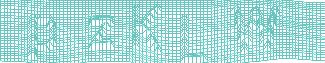K: (130, 3, 166, 54)
L: (176, 14, 210, 63)
P: (25, 11, 61, 63)
W: (231, 5, 280, 54)
z: (85, 13, 118, 53)
